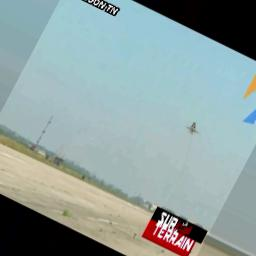Airplane: (184, 120, 202, 138)
